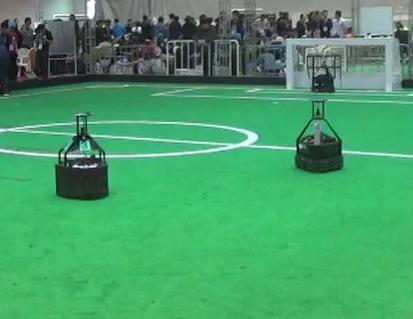robot: (47, 107, 122, 202), (286, 97, 356, 176)
